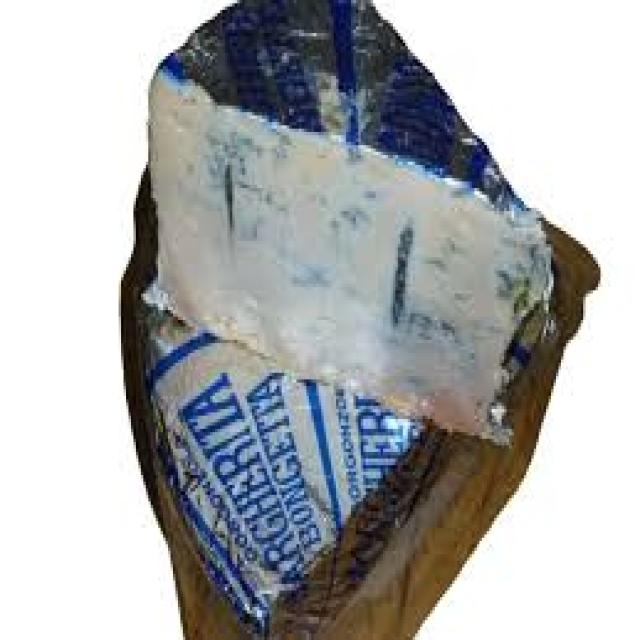Cheese: (143, 0, 559, 451), (120, 281, 447, 629)
